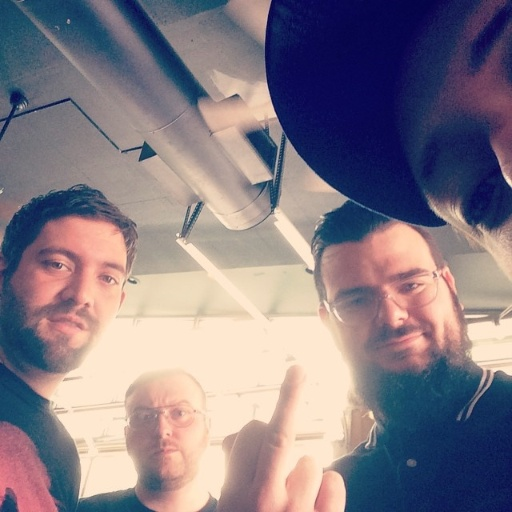hand: (225, 368, 329, 504)
